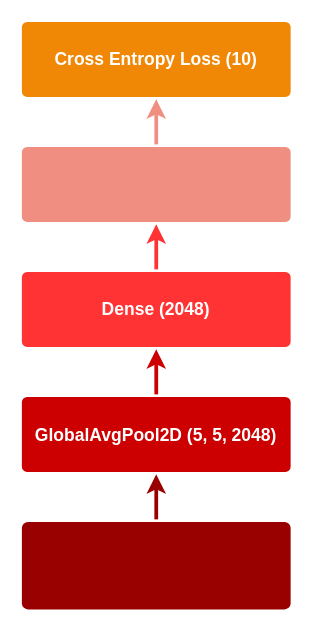
Image size: 311x630. Some labels were removed from this diagram. The centre of each missing label's shape, as x and y in pixels:
ResNet50V2 (160, 160, 3): the point at 155,565
Softmax (10): the point at 155,183
